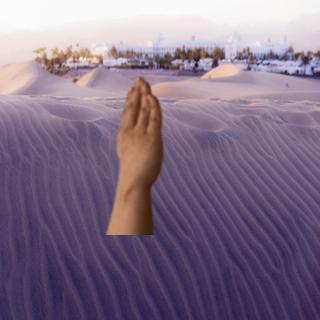RIGHT: (105, 72, 166, 192)
